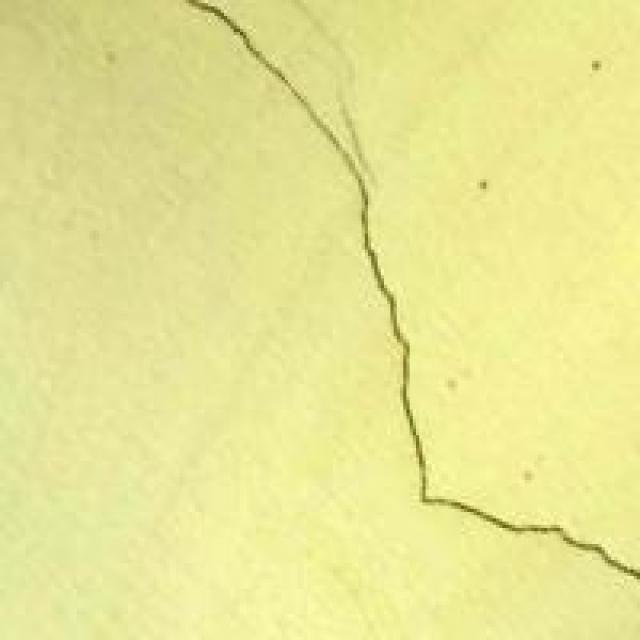crack: (189, 0, 637, 579)
